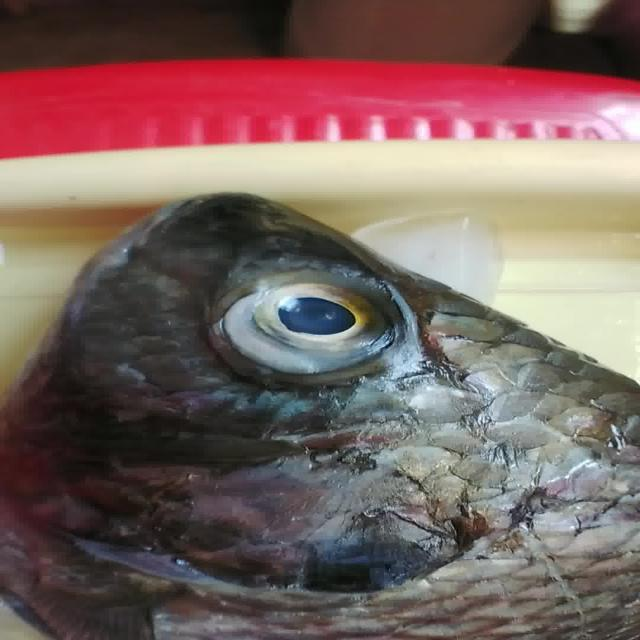Fresh: (212, 270, 410, 386)
